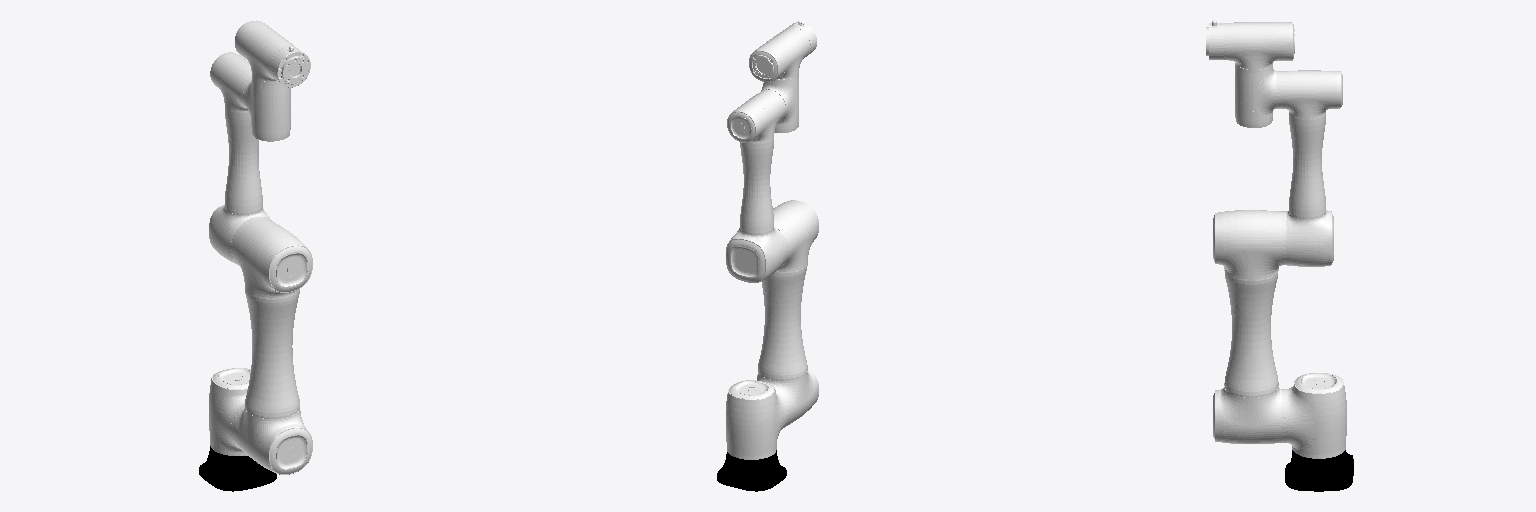
The robot description file, URDF, robot "cr5_robot":
<?xml version="1.0" encoding="utf-8"?>
<!-- This URDF was automatically created by SolidWorks to URDF Exporter! Originally created by [author] ([email redacted]) 
     Commit Version: 1.6.0-1-g15f4949  Build Version: 1.6.7594.29634
     For more information, please see http://wiki.ros.org/sw_urdf_exporter -->
<robot name="cr5_robot">
  <link name="dummy_link" />
  <link name="base_link">
    <inertial>
      <origin xyz="-8.0961E-06 0.0019103 0.028995" rpy="0 0 0" />
      <mass value="0.90882" />
      <inertia
        ixx="0.0014545"
        ixy="4.2968E-08"
        ixz="-1.8199E-07"
        iyy="0.001345"
        iyz="-6.243E-06"
        izz="0.002155" />
    </inertial>
    <visual>
      <origin xyz="0 0 0" rpy="0 0 0" />
      <geometry>
        <mesh filename="base_link.stl" />
      </geometry>
      <material
        name="">
        <color rgba="0 0 0 1" />
      </material>
    </visual>
    <collision>
      <origin xyz="0 0 0" rpy="0 0 0" />
      <geometry>
        <mesh filename="base_link.stl" />
      </geometry>
    </collision>
  </link>

  <joint name="dummy_joint" type="fixed">
    <parent link="dummy_link" />
    <child  link="base_link" />
  </joint>


  <link  name="Link1">
    <inertial>
      <origin xyz="-8.7268E-07 -0.0032576 -0.0076748" rpy="0 0 0" />
      <mass value="1.6123" />
      <inertia
        ixx="0.0029122"
        ixy="5.7387E-09"
        ixz="1.9945E-08"
        iyy="0.0028191"
        iyz="0.00044094"
        izz="0.0032836" />
    </inertial>
    <visual>
      <origin xyz="0 0 0" rpy="0 0 0" />
      <geometry>
        <mesh filename="Link1.stl" />
      </geometry>
      <material
        name="">
        <color rgba="1 1 1 1" />
      </material>
    </visual>
    <collision>
      <origin xyz="0 0 0" rpy="0 0 0" />
      <geometry>
        <mesh filename="Link1.stl" />
      </geometry>
    </collision>
  </link>

  <joint name="joint1" type="revolute">
    <origin xyz="0 0 0.147" rpy="0 0 0" />
    <parent link="base_link" />
    <child link="Link1" />
    <axis xyz="0 0 1" />
    <limit lower="-3.14" upper="3.14" effort="0" velocity="0" />
  </joint>

  <link name="Link2">
    <inertial>
      <origin xyz="-0.21351 -1.3842E-06 0.14252" rpy="0 0 0" />
      <mass value="5.5186" />
      <inertia
        ixx="0.0085919"
        ixy="7.5552E-07"
        ixz="-7.8922E-07"
        iyy="0.027553"
        iyz="1.4629E-07"
        izz="0.028294" />
    </inertial>
    <visual>
      <origin xyz="0 0 0" rpy="0 0 0" />
      <geometry>
        <mesh filename="Link2.stl" />
      </geometry>
      <material
        name="">
        <color rgba="1 1 1 1" />
      </material>
    </visual>
    <collision>
      <origin xyz="0 0 0" rpy="0 0 0" />
      <geometry>
        <mesh filename="Link2.stl" />
      </geometry>
    </collision>
  </link>

  <joint name="joint2" type="revolute">
    <origin xyz="0 0 0" rpy="1.5708 1.5708 0" />
    <parent link="Link1" />
    <child  link="Link2" />
    <axis xyz="0 0 1" />
    <limit lower="-3.14" upper="3.14" effort="0" velocity="0" />
  </joint>

  <link name="Link3">
    <inertial>
      <origin xyz="-0.15231 -1.4079E-07 0.022693" rpy="0 0 0" />
      <mass value="2.8536" />
      <inertia
        ixx="0.0032608"
        ixy="-3.2147E-10"
        ixz="0.00012363"
        iyy="0.0092967"
        iyz="2.9478E-10"
        izz="0.0095552" />
    </inertial>
    <visual>
      <origin xyz="0 0 0" rpy="0 0 0" />
      <geometry>
        <mesh filename="Link3.stl" />
      </geometry>
      <material
        name="">
        <color rgba="1 1 1 1" />
      </material>
    </visual>
    <collision>
      <origin xyz="0 0 0"  rpy="0 0 0" />
      <geometry>
        <mesh filename="Link3.stl" />
      </geometry>
    </collision>
  </link>

  <joint name="joint3" type="revolute">
    <origin xyz="-0.427 0 0" rpy="0 0 0" />
    <parent link="Link2" />
    <child link="Link3" />
    <axis  xyz="0 0 1" />
    <limit lower="-2.86"  upper="2.86"  effort="0" velocity="0" />
  </joint>

  <link name="Link4">
    <inertial>
      <origin xyz="-3.2386E-07 -0.002077 -0.0015548" rpy="0 0 0" />
      <mass value="0.67058" />
      <inertia
        ixx="0.00066939"
        ixy="4.1975E-10"
        ixz="-1.0734E-08"
        iyy="0.00065424"
        iyz="0.00011081"
        izz="0.00065365" />
    </inertial>
    <visual>
      <origin xyz="0 0 0" rpy="0 0 0" />
      <geometry>
        <mesh filename="Link4.stl" />
      </geometry>
      <material name="">
        <color rgba="1 1 1 1" />
      </material>
    </visual>
    <collision>
      <origin xyz="0 0 0" rpy="0 0 0" />
      <geometry>
        <mesh filename="Link4.stl" />
      </geometry>
    </collision>
  </link>

  <joint name="joint4" type="revolute">
    <origin xyz="-0.357 0 0.141" rpy="0 0 -1.5708" />
    <parent link="Link3" />
    <child link="Link4" />
    <axis xyz="0 0 1" />
    <limit lower="-3.14" upper="3.14" effort="0" velocity="0" />
  </joint>
  <link
    name="Link5">
    <inertial>
      <origin xyz="-3.7738E-07 -0.0045777 -0.0012971" rpy="0 0 0" />
      <mass value="0.7269" />
      <inertia
        ixx="0.00073069"
        ixy="-5.7806E-09"
        ixz="6.7132E-09"
        iyy="0.00071195"
        iyz="-0.00011926"
        izz="0.00071391" />
    </inertial>
    <visual>
      <origin xyz="0 0 0" rpy="0 0 0" />
      <geometry>
        <mesh filename="Link5.stl" />
      </geometry>
      <material name="">
        <color rgba="1 1 1 1" />
      </material>
    </visual>
    <collision>
      <origin xyz="0 0 0" rpy="0 0 0" />
      <geometry>
        <mesh filename="Link5.stl" />
      </geometry>
    </collision>
  </link>

  <joint name="joint5" type="revolute">
    <origin xyz="0 -0.116 0" rpy="1.5708 0 0" />
    <parent link="Link4" />
    <child link="Link5" />
    <axis xyz="0 0 1" />
    <limit lower="-3.14" upper="3.14" effort="0" velocity="0" />
  </joint>

  <link name="Link6">
    <inertial>
      <origin xyz="5.0777E-11 9.3774E-05 -0.019285" rpy="0 0 0" />
      <mass value="0.15789" />
      <inertia
        ixx="7.8045E-05"
        ixy="6.1582E-15"
        ixz="6.2471E-14"
        iyy="7.9168E-05"
        iyz="-1.3822E-07"
        izz="0.00012951" />
    </inertial>
    <visual>
      <origin xyz="0 0 0" rpy="0 0 0" />
      <geometry>
        <mesh filename="Link6.stl" />
      </geometry>
      <material name="">
        <color rgba="1 1 1 1" />
      </material>
    </visual>
    <collision>
      <origin xyz="0 0 0" rpy="0 0 0" />
      <geometry>
        <mesh filename="Link6.stl" />
      </geometry>
    </collision>
  </link>

  <joint name="joint6" type="revolute">
    <origin xyz="0 0.105 0"  rpy="-1.5708 0 0" />
    <parent link="Link5" />
    <child link="Link6" />
    <axis xyz="0 0 1" />
    <limit lower="-6.28" upper="6.28" effort="0" velocity="0" />
  </joint>

</robot>

--- What the picture shows (computed from the rendered views, not written in the file) ---
Views: 3 orthographic renders of the robot side by side, from view 1: azimuth 30°, elevation 25°; view 2: azimuth 150°, elevation 25°; view 3: azimuth 270°, elevation 25°.
Model cr5_robot with 8 links and 7 joints (6 revolute, 1 fixed), rooted at dummy_link, posed all joints at 0.
Links seen in each view (by area): view 1: Link2, Link3, Link1, Link4, base_link, Link5, Link6; view 2: Link2, Link3, Link1, Link5, base_link, Link4; view 3: Link2, Link3, Link1, Link5, Link4, base_link, Link6.
Boxes of the visible links, x1,y1,x2,y2 form: Link2: [231, 217, 312, 474]; Link3: [209, 52, 271, 264]; Link1: [209, 368, 250, 455]; Link4: [243, 76, 290, 141]; base_link: [199, 446, 276, 491]; Link5: [235, 20, 294, 81]; Link6: [270, 46, 310, 87]; Link2: [757, 200, 818, 427]; Link3: [726, 89, 787, 282]; Link1: [726, 380, 787, 459]; Link5: [749, 27, 810, 82]; base_link: [717, 450, 786, 491]; Link4: [761, 74, 798, 132]; Link2: [1213, 210, 1285, 443]; Link3: [1277, 70, 1342, 266]; Link1: [1286, 373, 1346, 458]; Link5: [1224, 22, 1294, 69]; Link4: [1235, 62, 1276, 127]; base_link: [1285, 450, 1353, 491]; Link6: [1206, 20, 1223, 59].
Bounding box of the posed robot: 0.148 × 0.3221 × 1.1 m (x, y, z).
7 mesh visuals loaded from 7 distinct referenced files (7 binary STL).